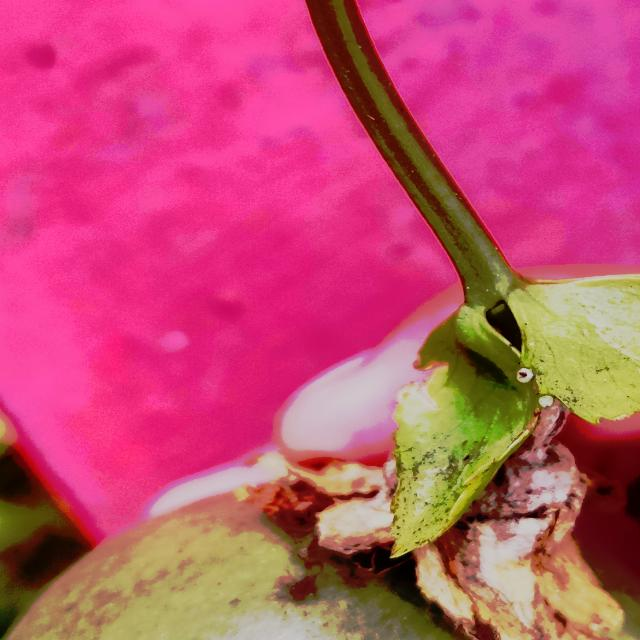Estado-1: (6, 0, 640, 640)
